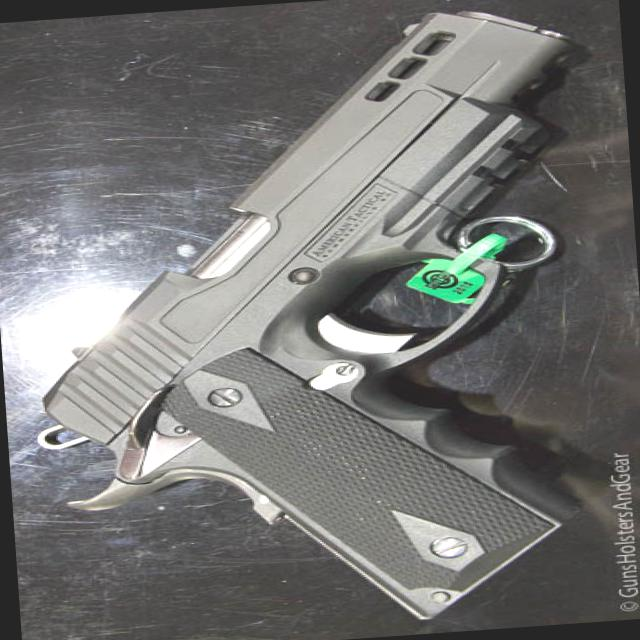handgun: (4, 1, 625, 639)
